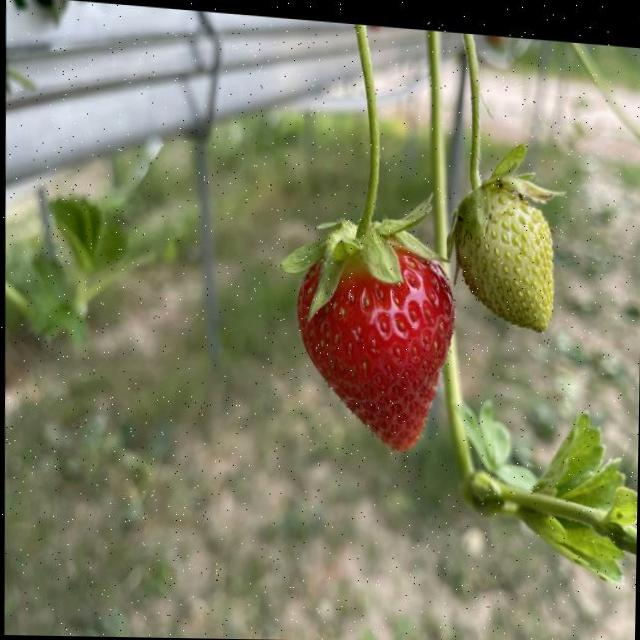stem: (281, 26, 437, 319), (464, 34, 563, 202)
strawberryNR: (454, 179, 554, 331)
strawberryR: (297, 248, 454, 450)
